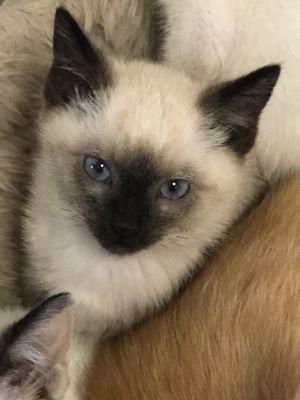siamese: (22, 1, 293, 269)
